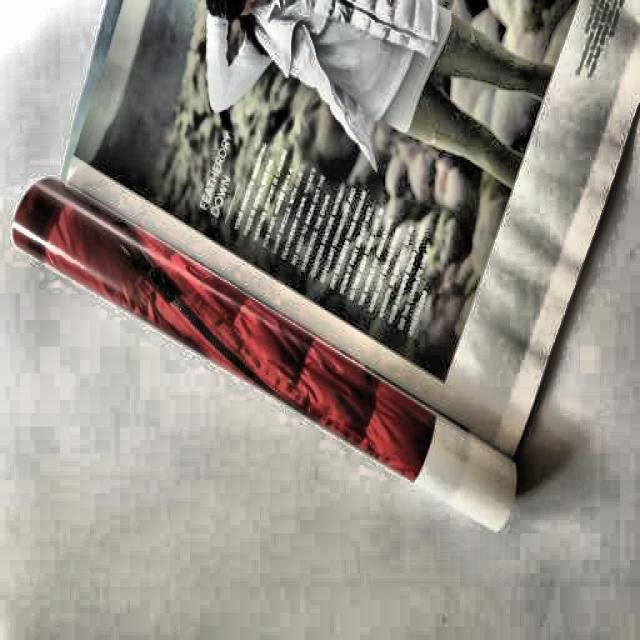paper: (35, 4, 624, 524)
